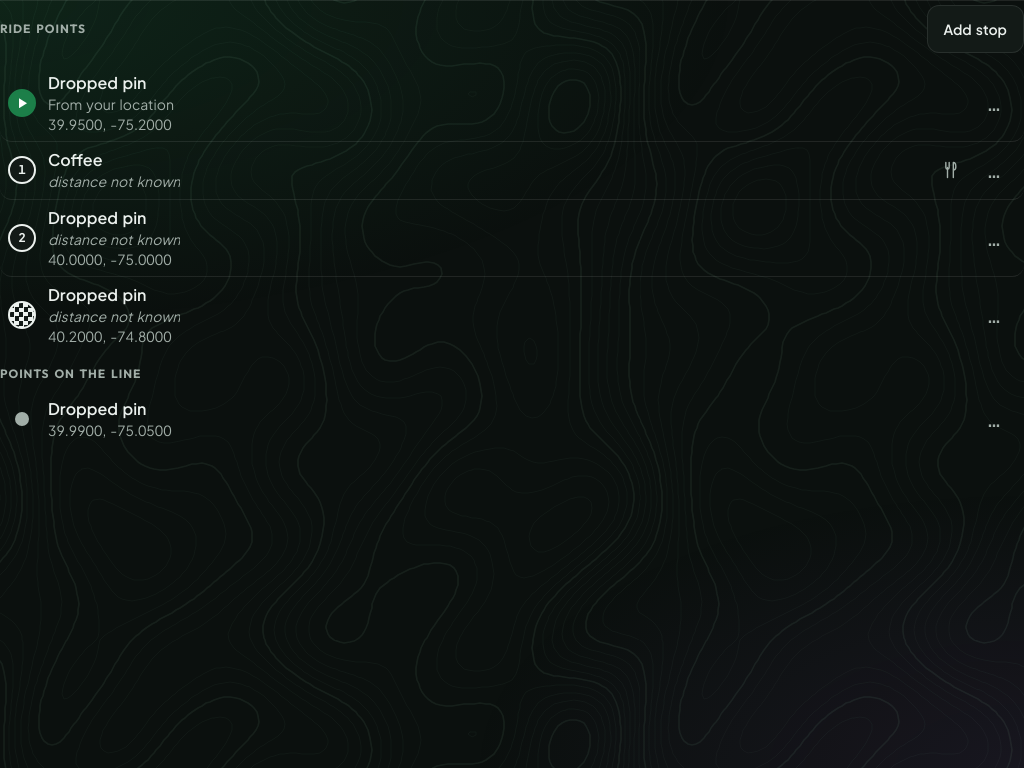
Test: StopsPanel — one press, one intent (03 §27) › keeps Remove in the danger colour and closes the sheet after an action
The image size is (1024, 768).
Click the 2nd button "…".
click(994, 170)  # box top-left (972, 148), bottom-right (1016, 192)
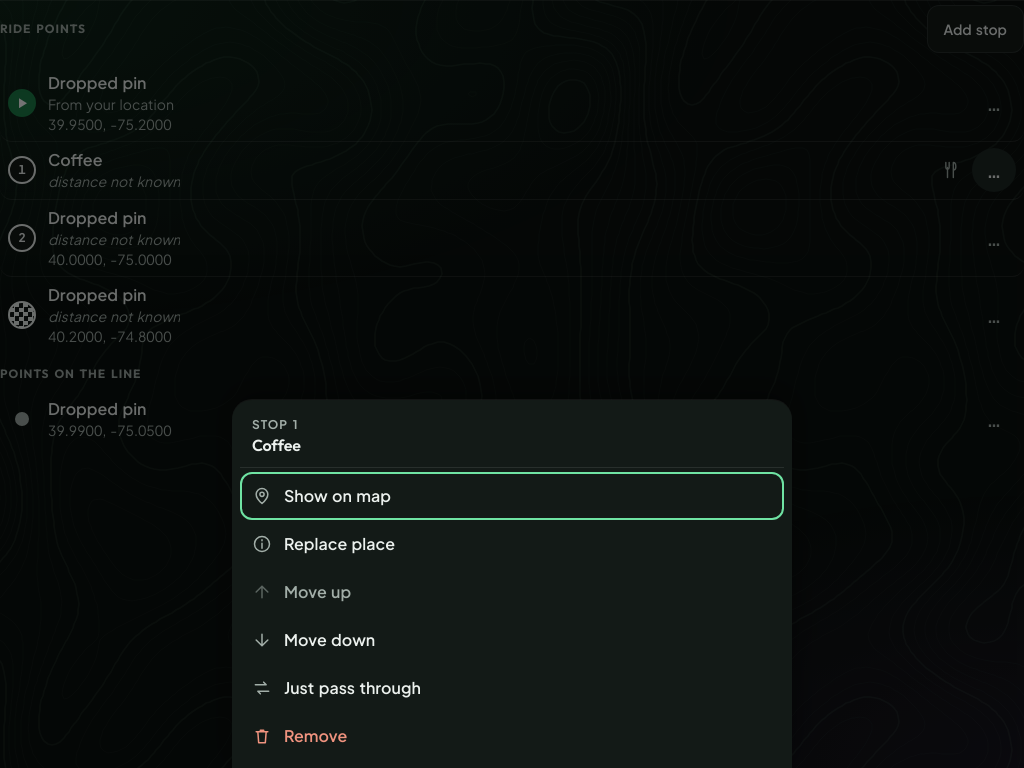
Click the button with test id "remove-stop-1".
click(316, 736)  # box top-left (240, 712), bottom-right (784, 760)
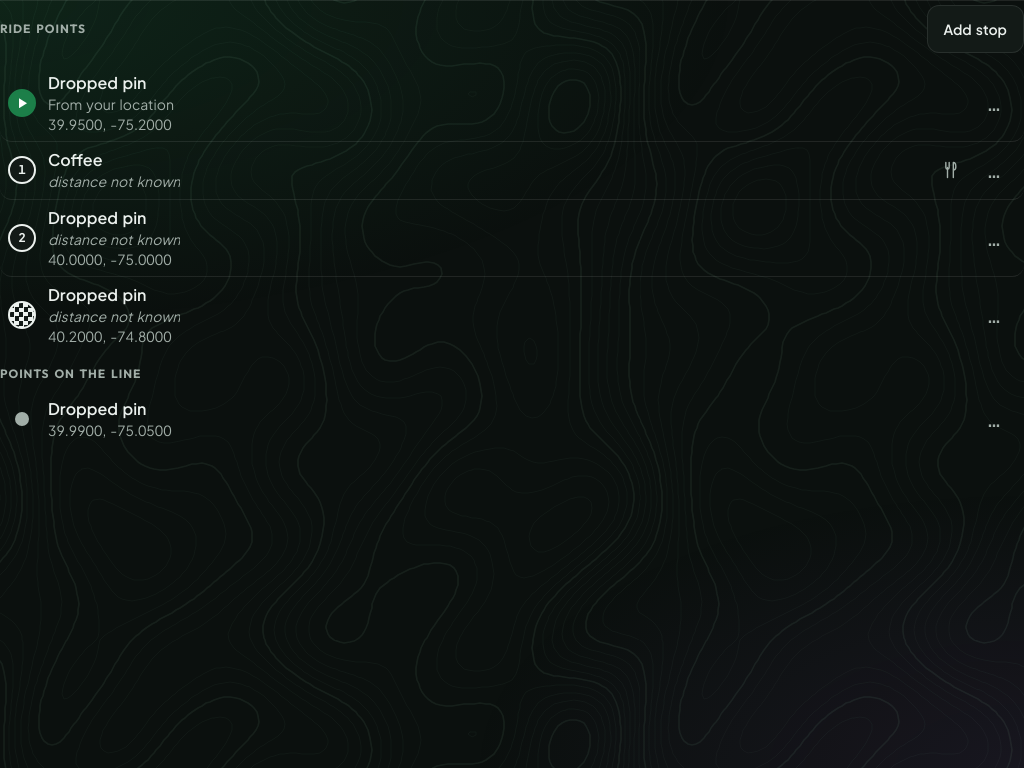
Result: the dialog with test id "point-menu" is gone
